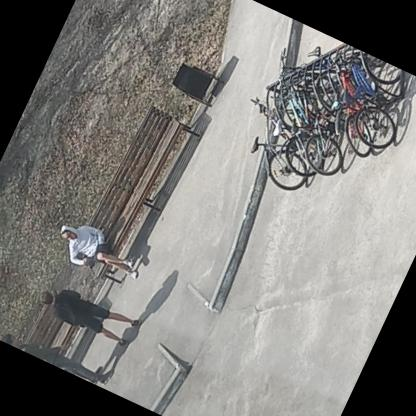Human Body: (34, 271, 143, 352), (2, 318, 120, 390), (50, 213, 152, 292)
